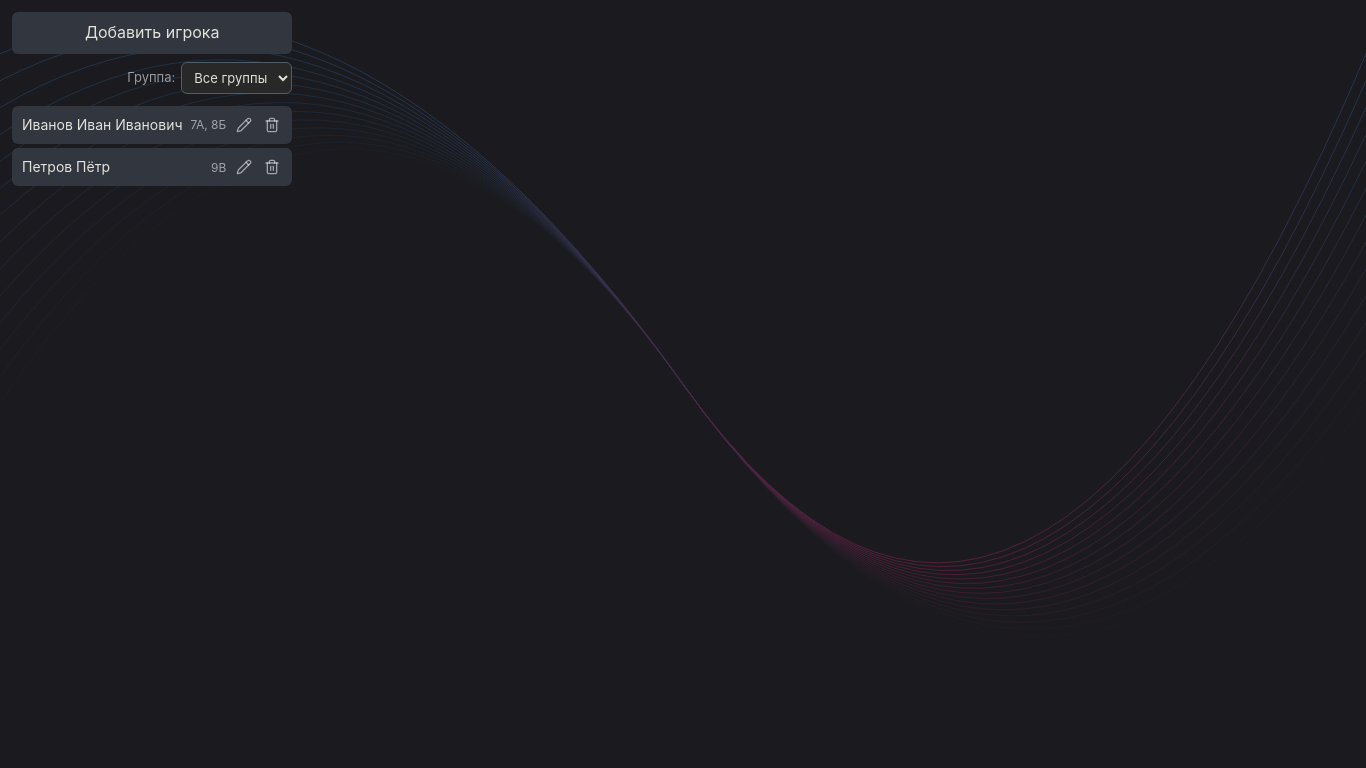
Test: PlayersPanel › filters players by group
This screenshot has width=1366, height=768.
Expected: the text "Иванов Иван Иванович" is shown, [22, 114, 182, 136]
Select "7А" in the dropdown labelled "Группа:": (237, 78) [181, 62, 292, 94]
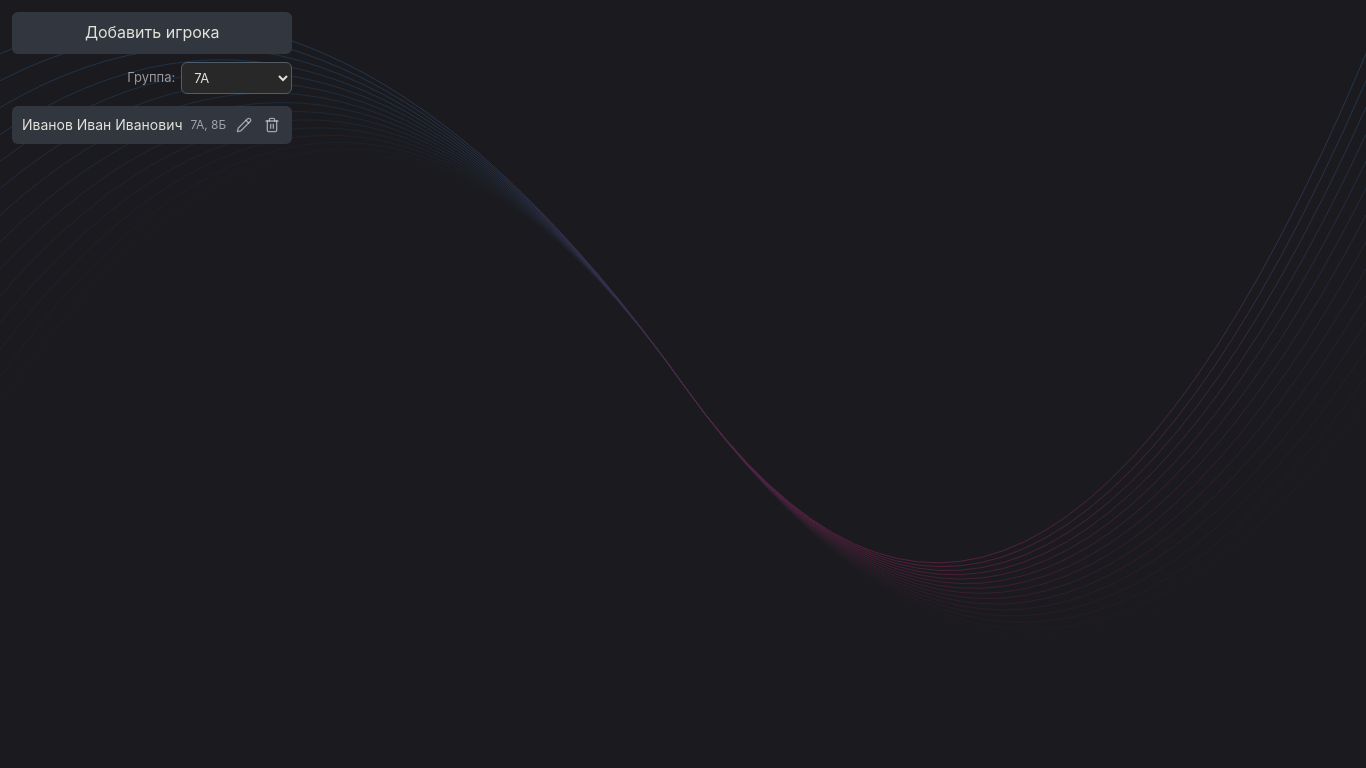
Expected: the text "Петров Пётр" is gone
Select "9В" in the dropdown labelled "Группа:": (237, 78) [181, 62, 292, 94]
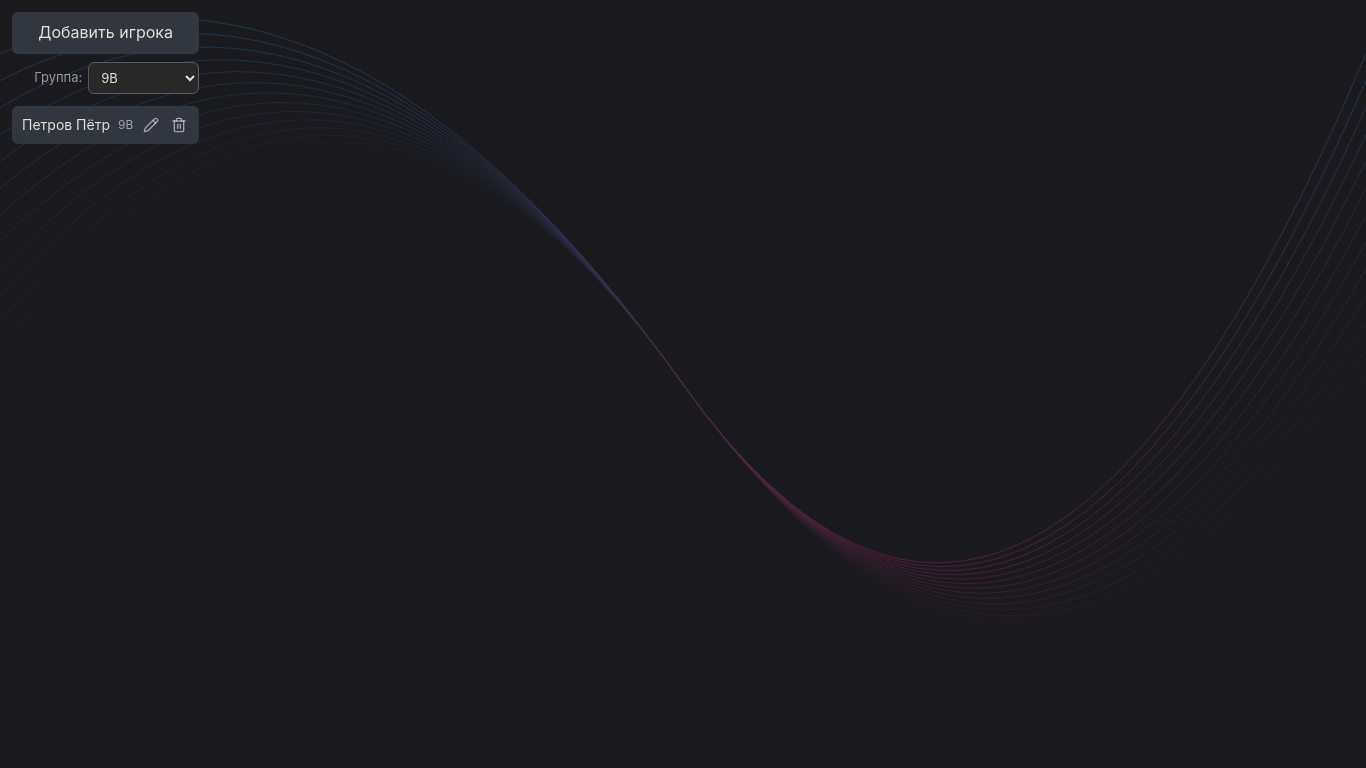
Expected: the text "Иванов Иван Иванович" is gone
Expected: the text "Петров Пётр" is shown, [22, 114, 110, 136]
Select "Все группы" in the dropdown labelled "Группа:": (144, 78) [88, 62, 199, 94]
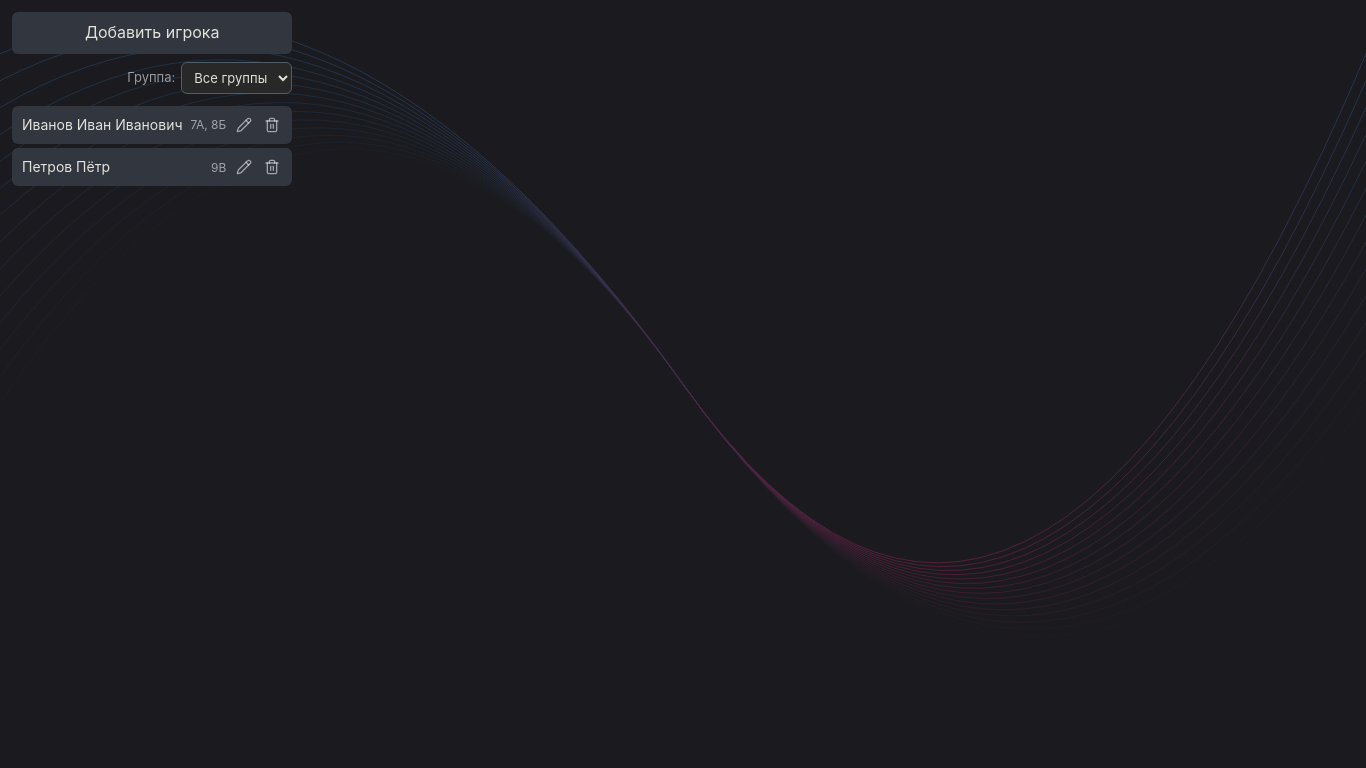
Expected: the text "Петров Пётр" is shown, [22, 158, 110, 175]
Expected: the text "Иванов Иван Иванович" is shown, [22, 114, 182, 136]
